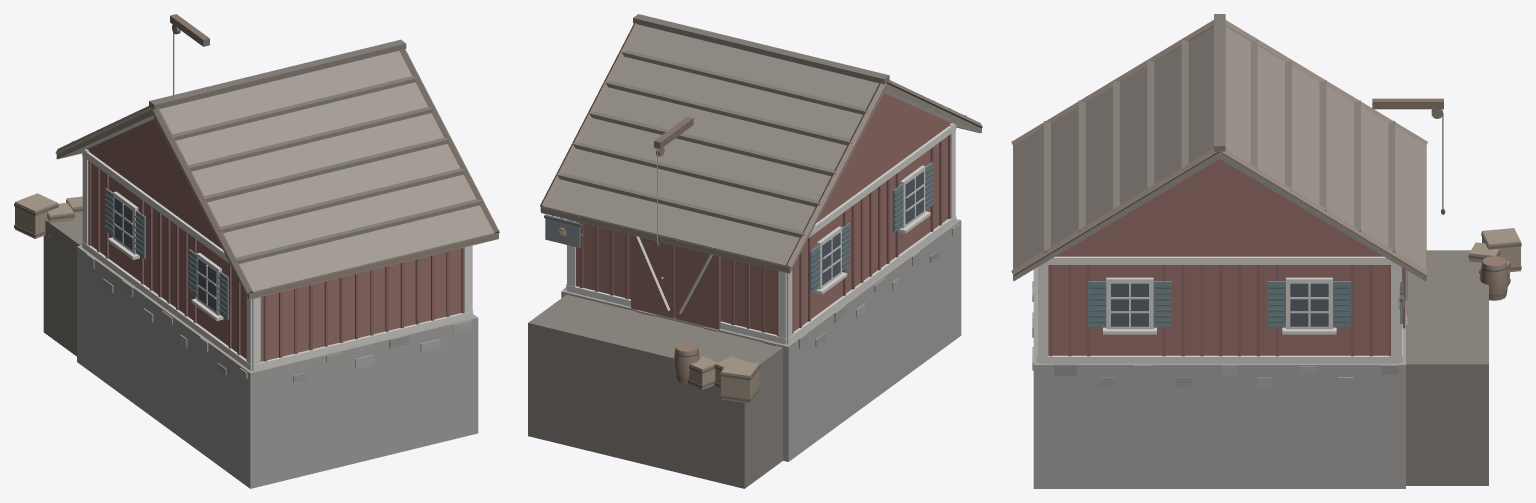
Rendered from storage_2.gltf.
3 views of the same model, side by side, from view 1: azimuth 30°, elevation 25°; view 2: azimuth 150°, elevation 25°; view 3: azimuth 270°, elevation 25° (orthographic). The views are drawn at different scales.
Visible parts, largest first — view 1: Body; view 2: Body; view 3: Body.
Boxes of the visible parts, bbox=[...] form: Body: bbox=[14, 14, 499, 488]; Body: bbox=[528, 14, 982, 488]; Body: bbox=[1011, 14, 1521, 488].
Bounding box in the file's own units: 7.16 × 8.59 × 11.38.
